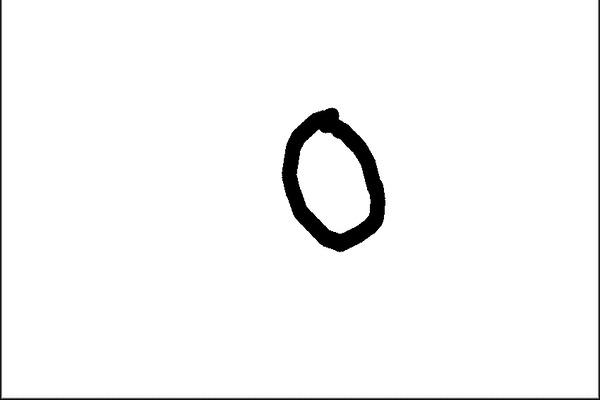O: (267, 100, 398, 253)
